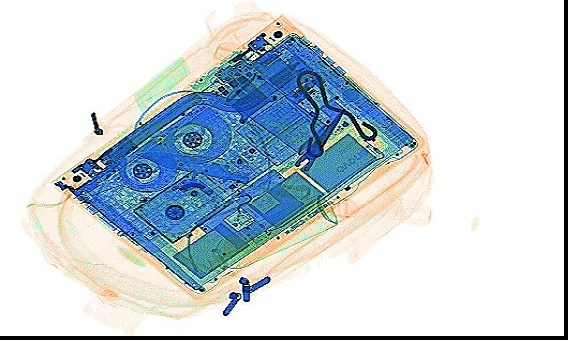knife: (132, 149, 309, 199)
pressure: (203, 192, 335, 275)
scissors: (291, 105, 346, 171)
slingshot: (295, 68, 377, 157)
zippooil: (222, 69, 326, 154)
